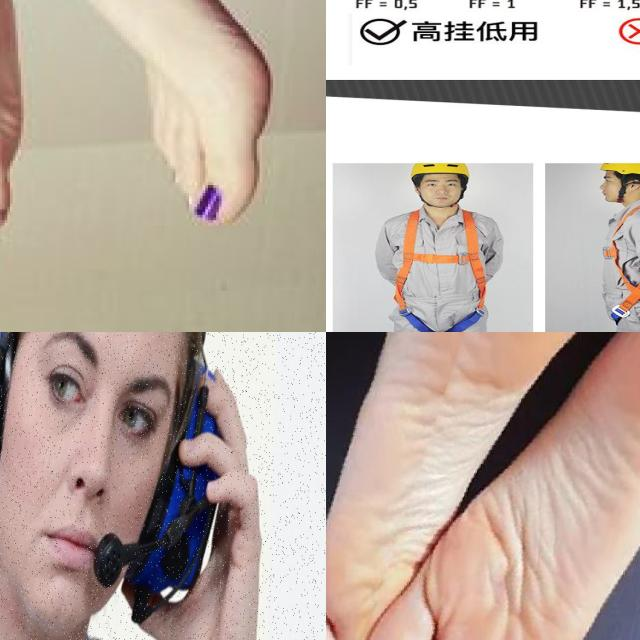Barefoots: (365, 332, 640, 640), (326, 332, 598, 640), (139, 0, 279, 226)
Harness: (391, 204, 487, 332)
No_Glasses: (32, 332, 177, 465)
face_nomask: (0, 394, 164, 639)
hand_noglove: (144, 373, 260, 640)
